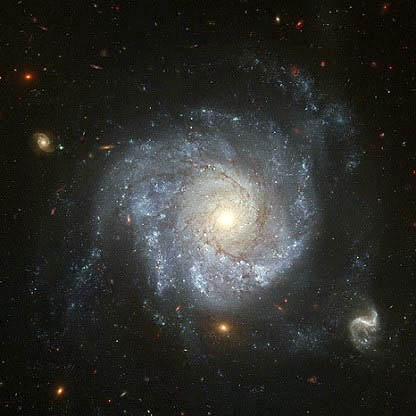NGC 1309: (33, 90, 388, 351)
